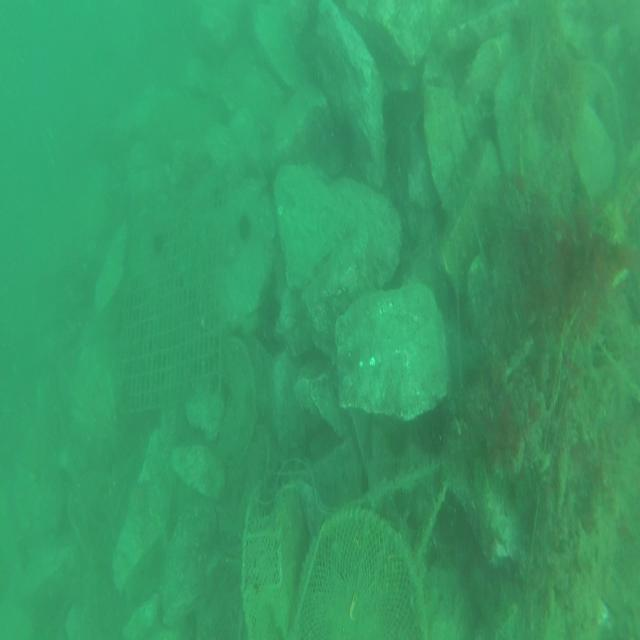echinus: (210, 185, 228, 215), (238, 210, 254, 242), (152, 229, 169, 258)
